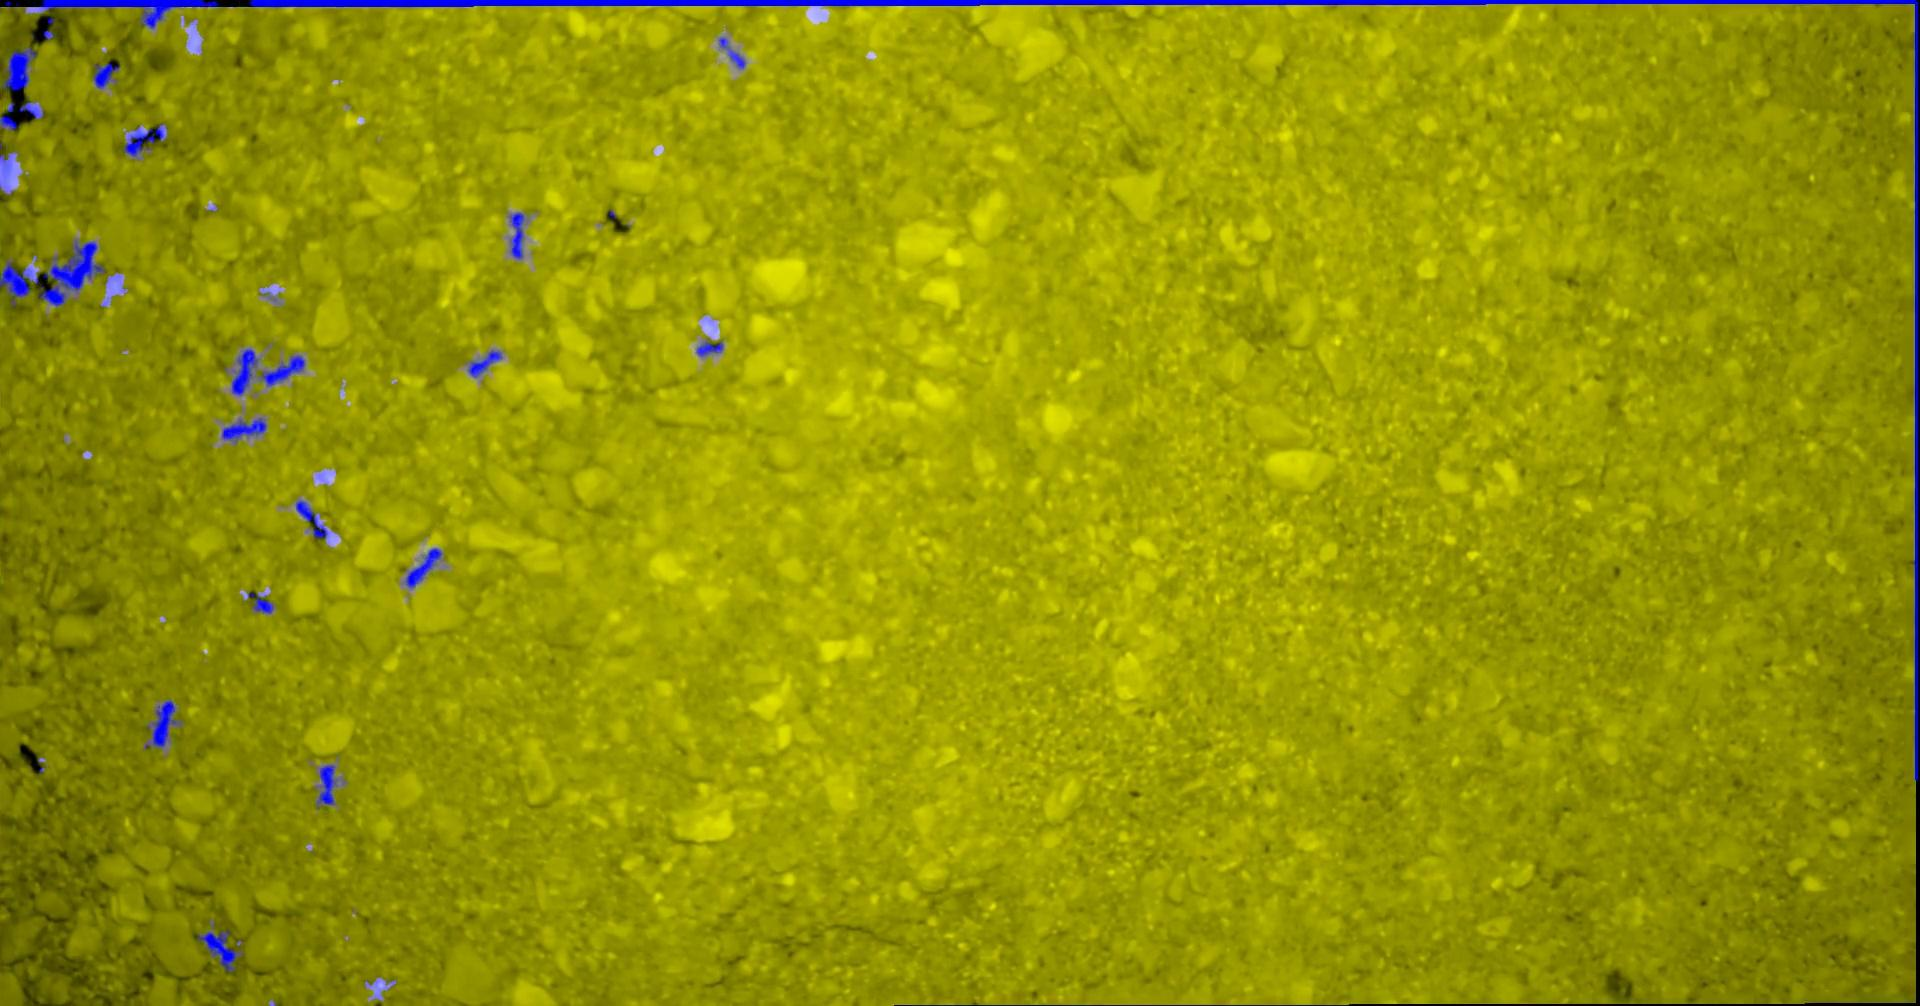ant: (196, 929, 243, 970), (143, 699, 180, 748), (0, 260, 38, 305), (0, 46, 36, 91), (404, 547, 442, 587), (260, 354, 303, 386), (123, 123, 163, 156), (295, 499, 328, 539), (231, 348, 257, 395), (221, 417, 265, 442), (467, 351, 502, 377), (316, 763, 337, 807), (717, 37, 744, 69), (509, 212, 524, 258), (91, 62, 118, 88), (248, 592, 273, 614), (0, 102, 17, 130), (18, 102, 43, 118), (696, 340, 723, 356)
